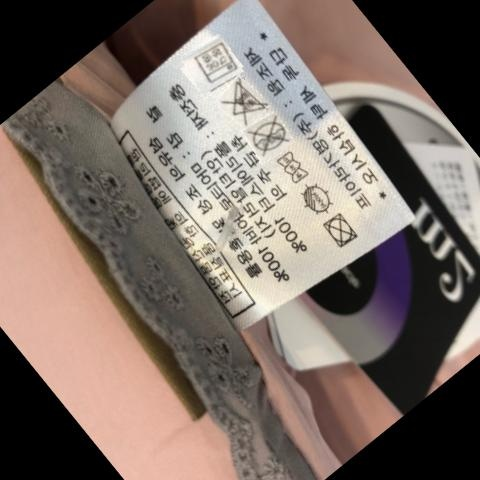30C: (190, 43, 239, 84)
DN_dry_clean: (242, 119, 291, 154)
DN_tumble_dry: (322, 213, 356, 247)
dry_flat_in_shade: (295, 179, 338, 213)
non_chlorine_bleach: (220, 83, 266, 122)
wring: (271, 150, 311, 187)
